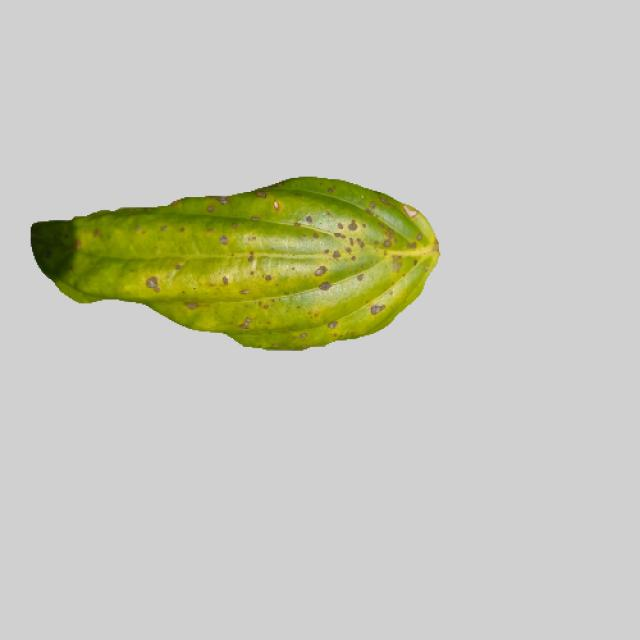yellow-mottle-virus: (25, 168, 443, 353)
